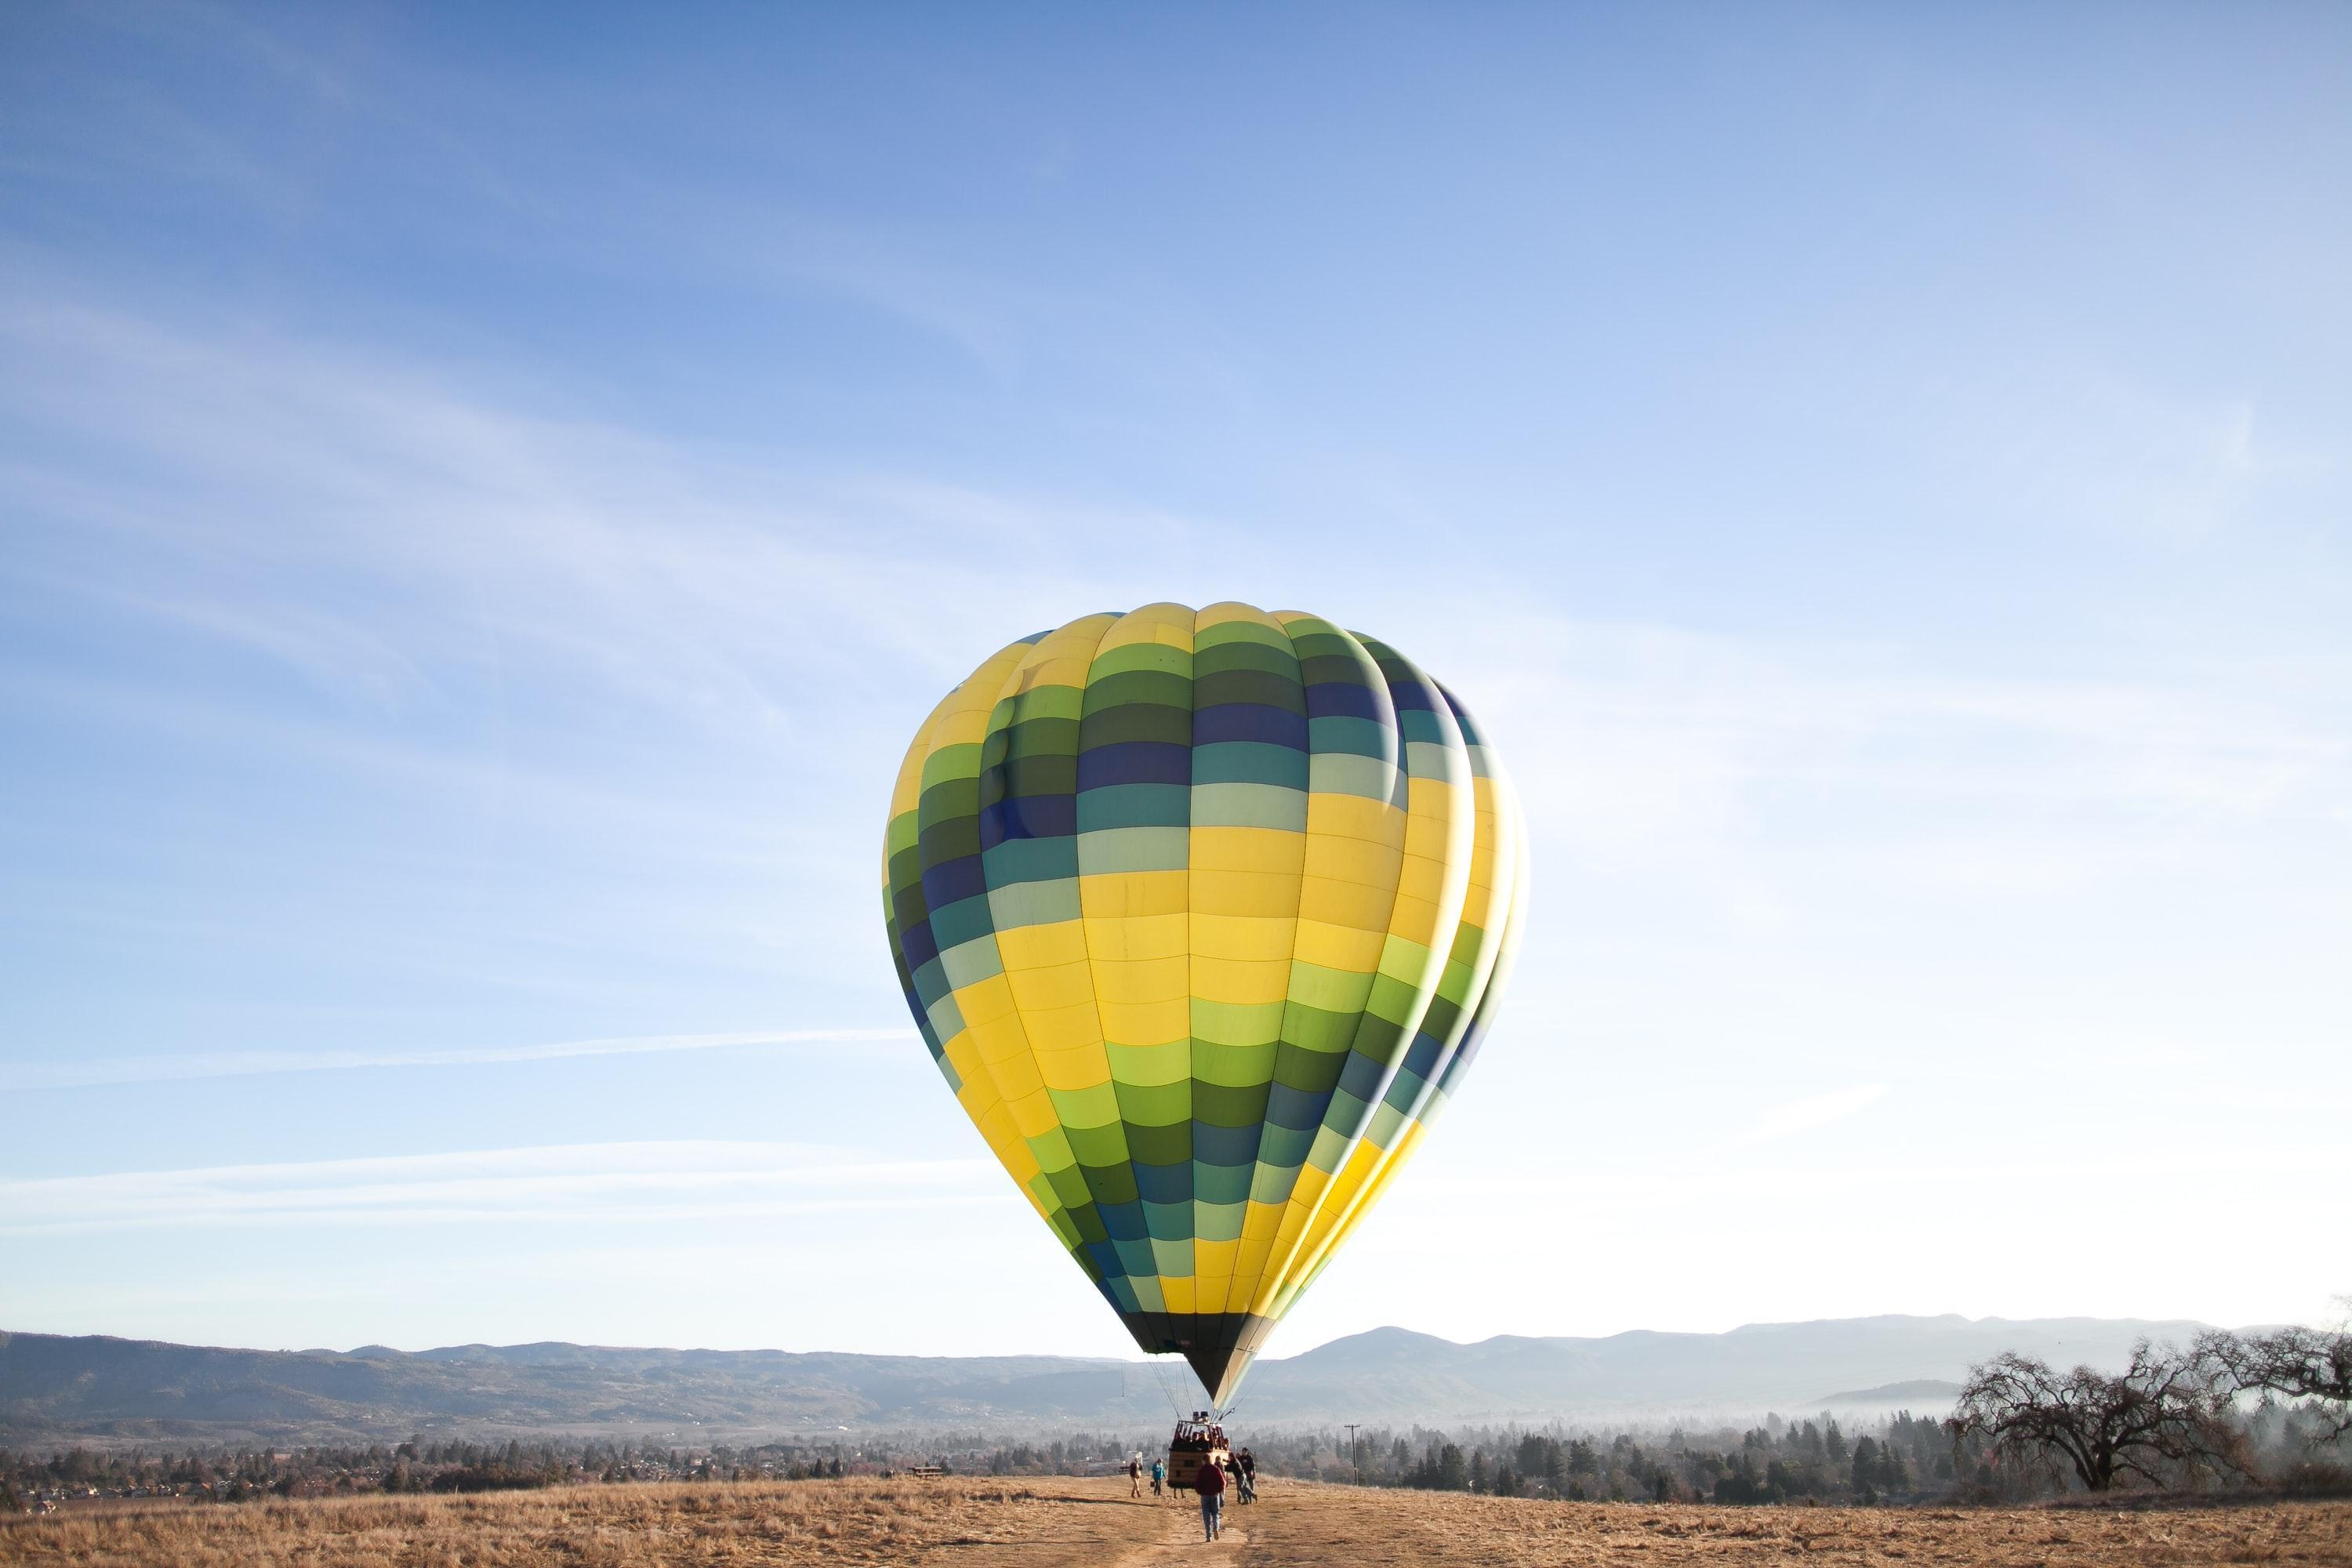hot air ballon: (880, 609, 1531, 1486)
